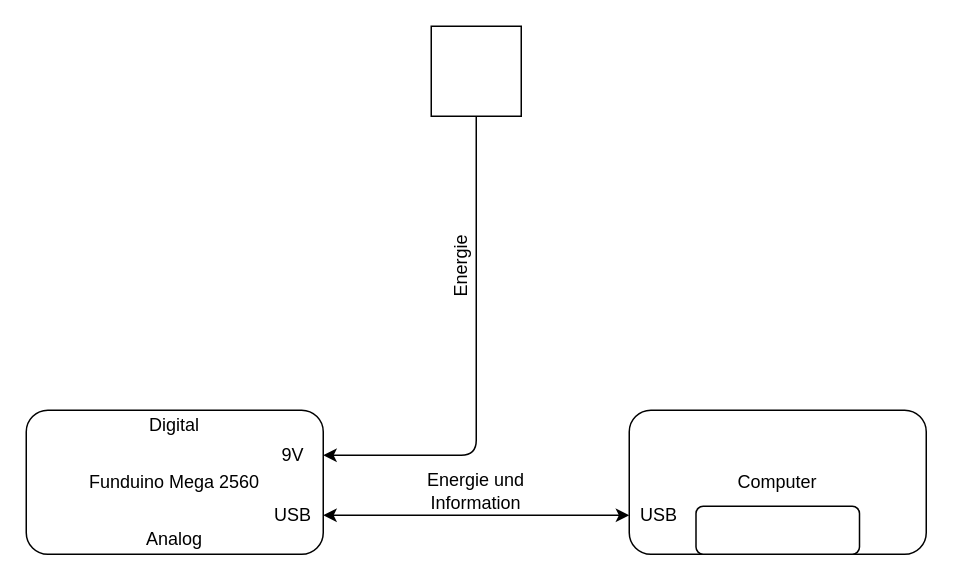
Some shapes in this 953 by 581 pixel diagram are drawn without their labels. Here are the shapes that lost their labels. From the top down, the centre of each, then its label:
(x=475, y=70): 9V Batterie
(x=777, y=529): Code zur Steuerung
